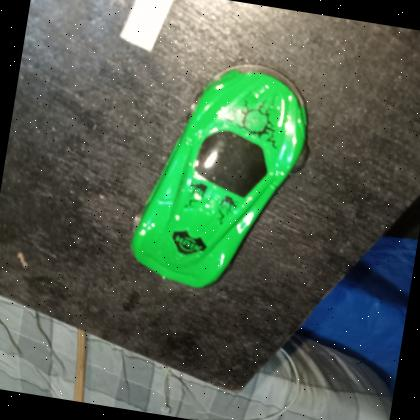Car: (123, 48, 322, 305)
